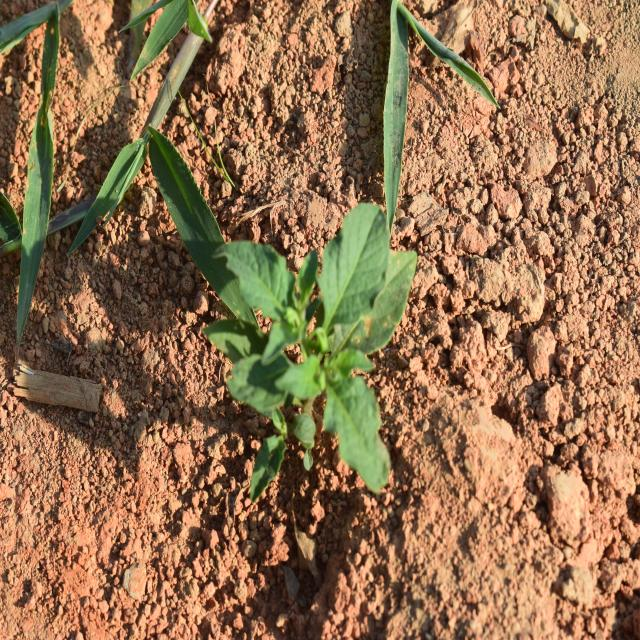Black_nightshade: (203, 179, 421, 490)
